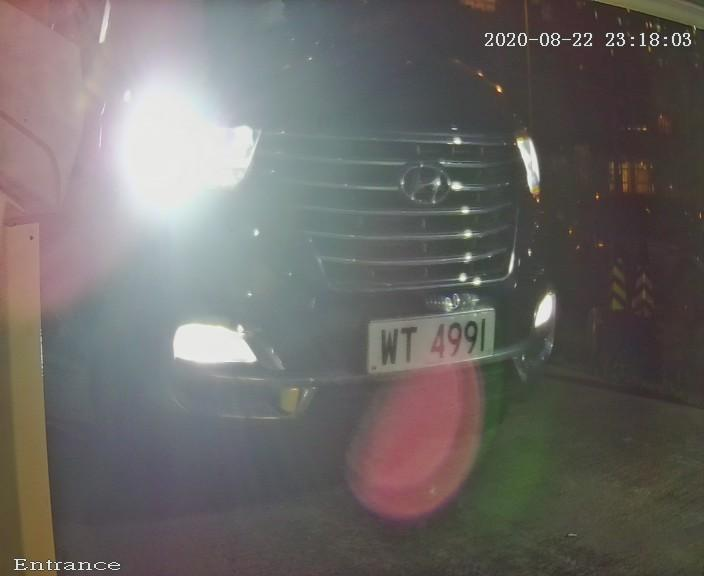Car: (4, 11, 642, 523)
License Plate: (343, 274, 511, 424)
